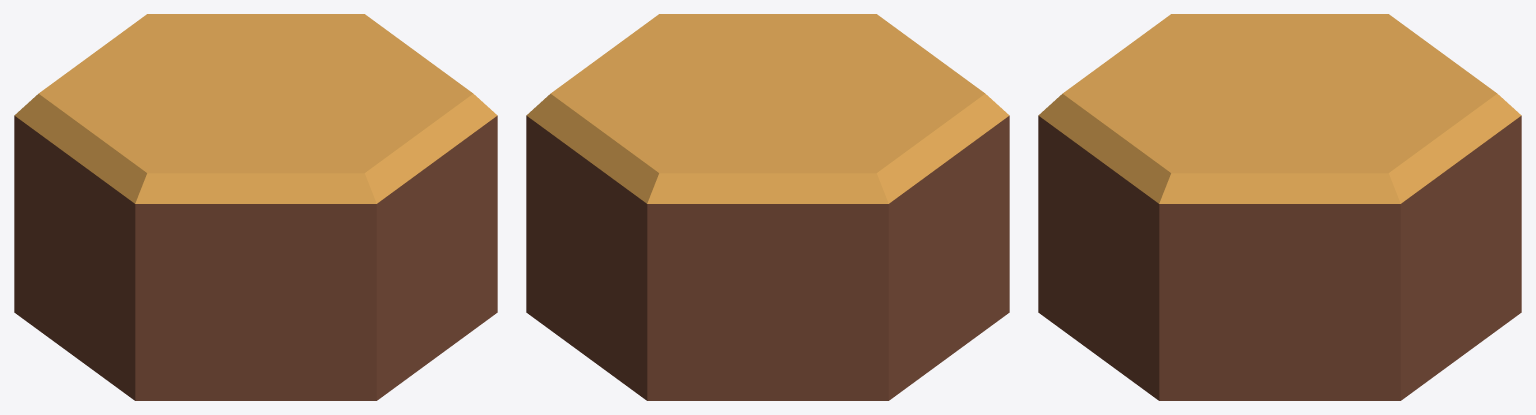
File: land_model.fbx
3 views of the same model, side by side, from view 1: azimuth 30°, elevation 25°; view 2: azimuth 150°, elevation 25°; view 3: azimuth 270°, elevation 25° (orthographic).
Visible parts, largest first — view 1: Desert; view 2: Desert; view 3: Desert.
Part boxes in pixels (x1,y1,x2,y2): Desert: (14,14,497,400); Desert: (526,14,1009,400); Desert: (1038,14,1521,400).
Bounding box in the file's own units: 1732 × 1000 × 2000.
